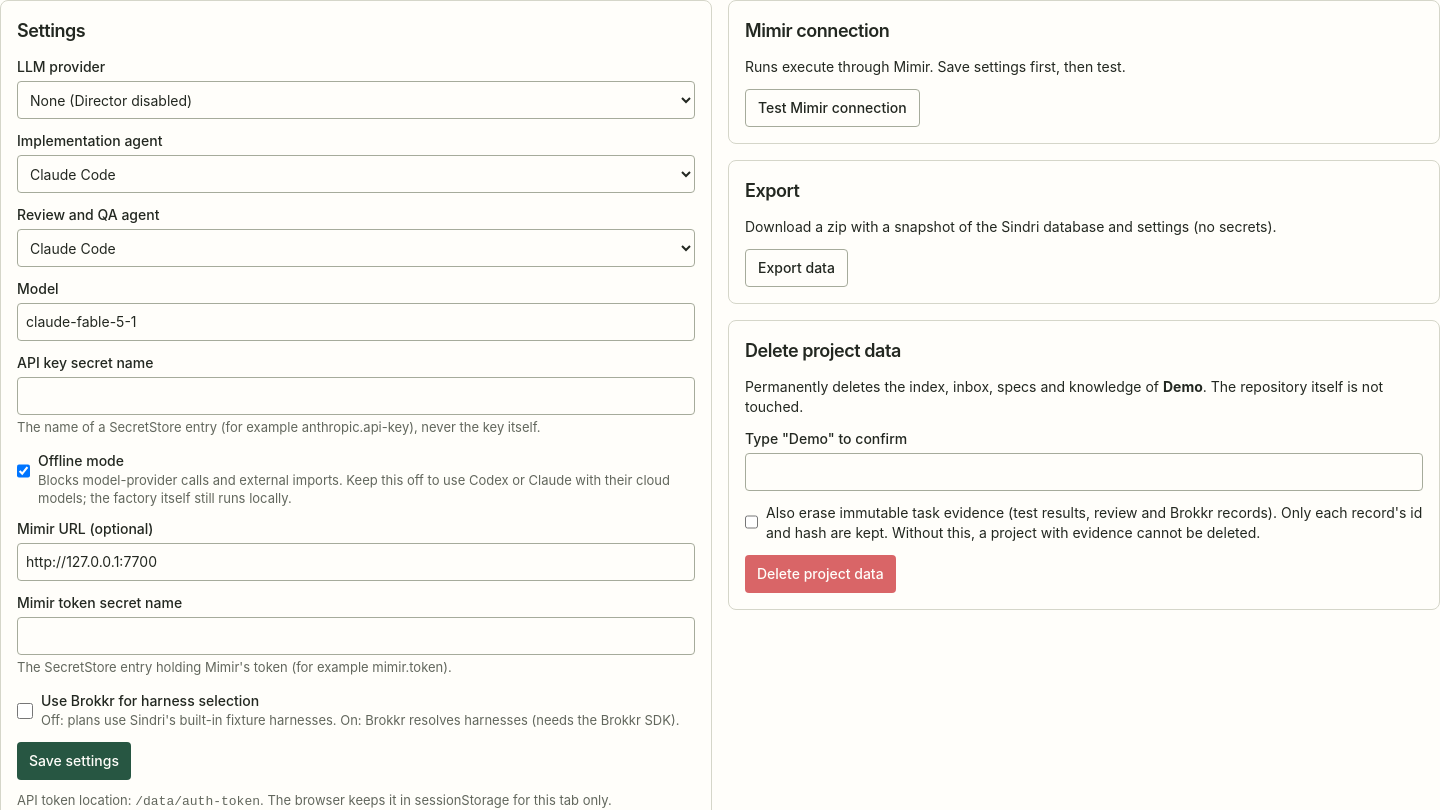
Test: SettingsScreen: Mimir and Brokkr › tests the Mimir connection
This screenshot has width=1440, height=810.
Click the button "Test Mimir connection" at (832, 108), box [745, 89, 920, 127]
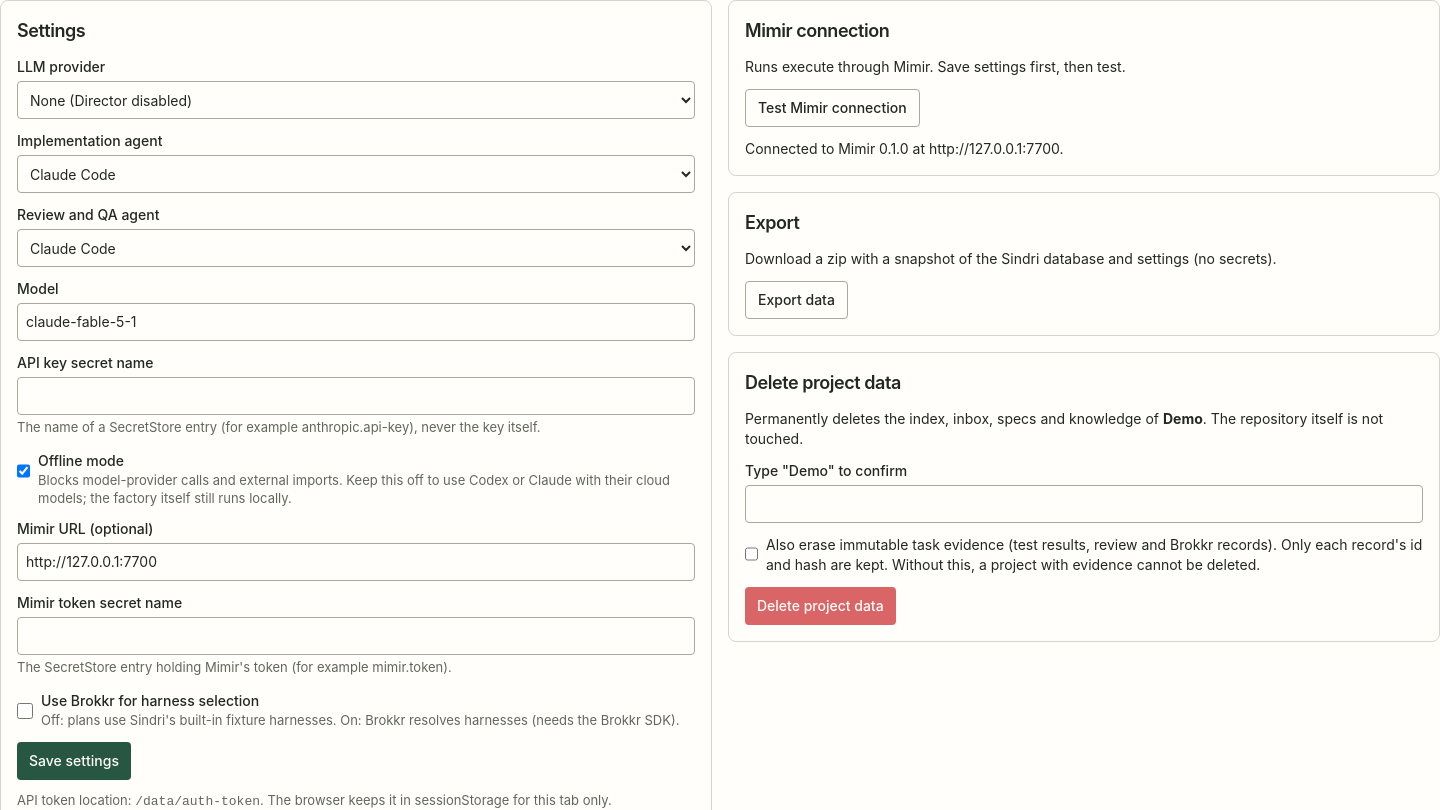
Expected: the element named "Mimir connection" shows "Connected to Mimir 0.1.0", [745, 140, 1064, 157]
